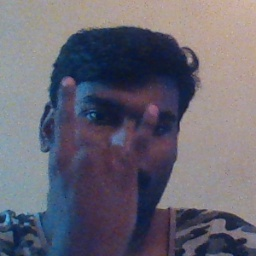V: (43, 71, 161, 249)
